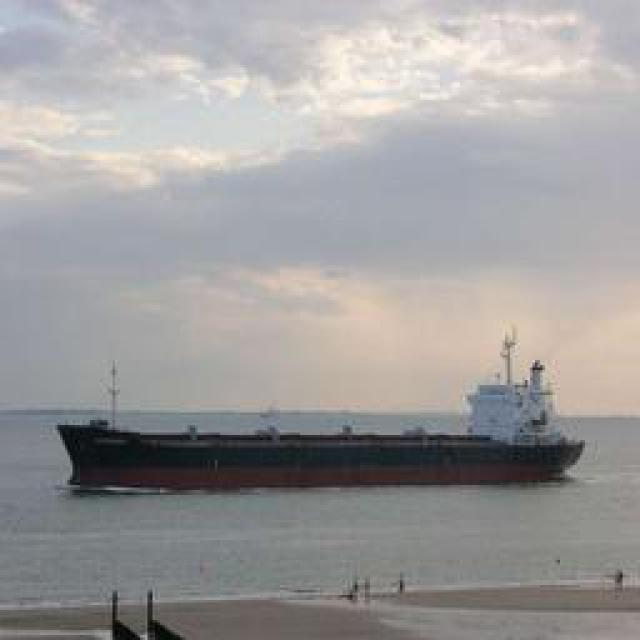Ship: (63, 379, 588, 492)
